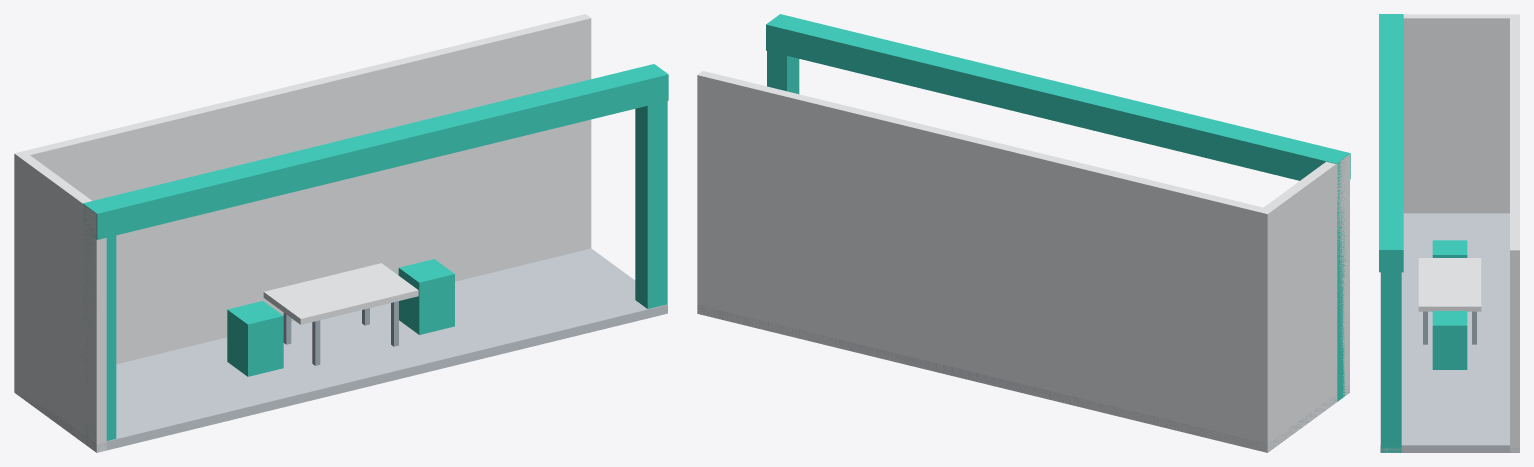
3 views of the same model, side by side, from view 1: azimuth 30°, elevation 25°; view 2: azimuth 150°, elevation 25°; view 3: azimuth 270°, elevation 25° (orthographic). The views are drawn at different scales.
Parts seen in each view (by area): view 1: Exhibition Booth Concept; view 2: Exhibition Booth Concept; view 3: Exhibition Booth Concept.
Part boxes in pixels (x1,y1,x2,y2): Exhibition Booth Concept: [14, 14, 668, 452]; Exhibition Booth Concept: [697, 14, 1350, 452]; Exhibition Booth Concept: [1379, 14, 1519, 452].
Bounding box in the file's own units: 8 × 3.2 × 2.01.
